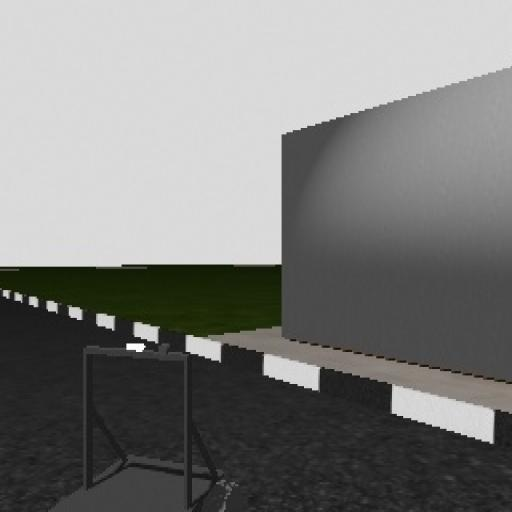huskya200: (65, 333, 246, 512)
